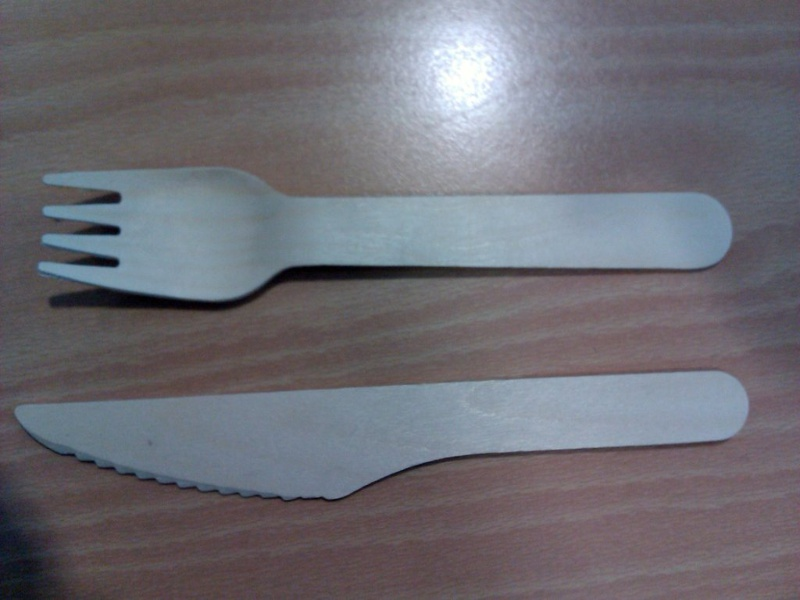knife: (1, 2, 799, 596), (75, 9, 339, 600), (150, 7, 415, 593), (241, 25, 507, 558), (337, 19, 601, 520), (531, 2, 800, 442), (2, 52, 184, 600), (434, 30, 635, 510), (613, 28, 800, 400), (695, 61, 800, 238)
